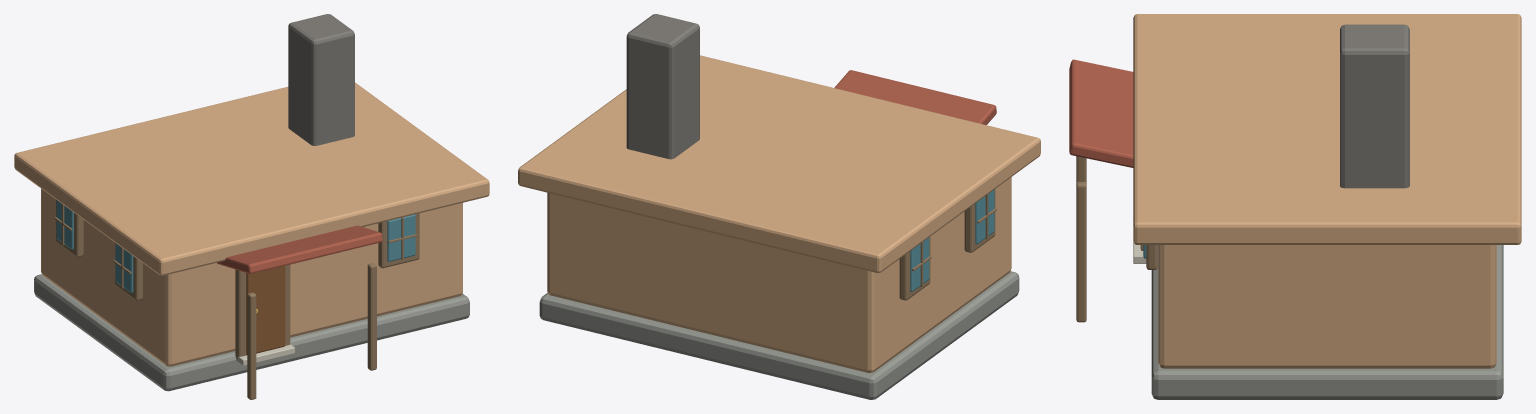
File: arid-workshop-0.glb
3 renders of one model, left to right at view 1: azimuth 30°, elevation 25°; view 2: azimuth 150°, elevation 25°; view 3: azimuth 270°, elevation 25°, orthographic. The views are drawn at different scales.
Parts seen in each view (by area): view 1: Adobe cream, Adobe fieldstone, Foundation stone, Soot stone, Palm beams, Clay tiles, Door oak, Blue glass, Cut limestone; view 2: Adobe cream, Adobe fieldstone, Foundation stone, Soot stone, Clay tiles, Palm beams, Blue glass; view 3: Adobe cream, Adobe fieldstone, Foundation stone, Soot stone, Clay tiles, Palm beams.
Boxes of the visible parts, bbox=[...] form: Adobe cream: bbox=[14, 82, 489, 275]; Adobe fieldstone: bbox=[41, 188, 462, 366]; Foundation stone: bbox=[34, 274, 469, 391]; Soot stone: bbox=[288, 14, 354, 145]; Palm beams: bbox=[54, 199, 419, 399]; Clay tiles: bbox=[217, 225, 382, 273]; Door oak: bbox=[246, 266, 285, 354]; Blue glass: bbox=[56, 200, 415, 292]; Cut limestone: bbox=[234, 344, 294, 365]; Adobe cream: bbox=[518, 55, 1040, 273]; Adobe fieldstone: bbox=[547, 177, 1011, 372]; Foundation stone: bbox=[539, 271, 1019, 399]; Soot stone: bbox=[626, 14, 699, 159]; Clay tiles: bbox=[834, 70, 996, 124]; Palm beams: bbox=[899, 189, 996, 300]; Blue glass: bbox=[910, 189, 994, 291]; Adobe cream: bbox=[1133, 14, 1521, 244]; Adobe fieldstone: bbox=[1158, 245, 1496, 368]; Foundation stone: bbox=[1151, 245, 1503, 399]; Soot stone: bbox=[1340, 24, 1409, 188]; Clay tiles: bbox=[1069, 59, 1133, 167]; Palm beams: bbox=[1076, 156, 1157, 322].
Size of the model in its own units: 4.44 by 3.17 by 4.01.
